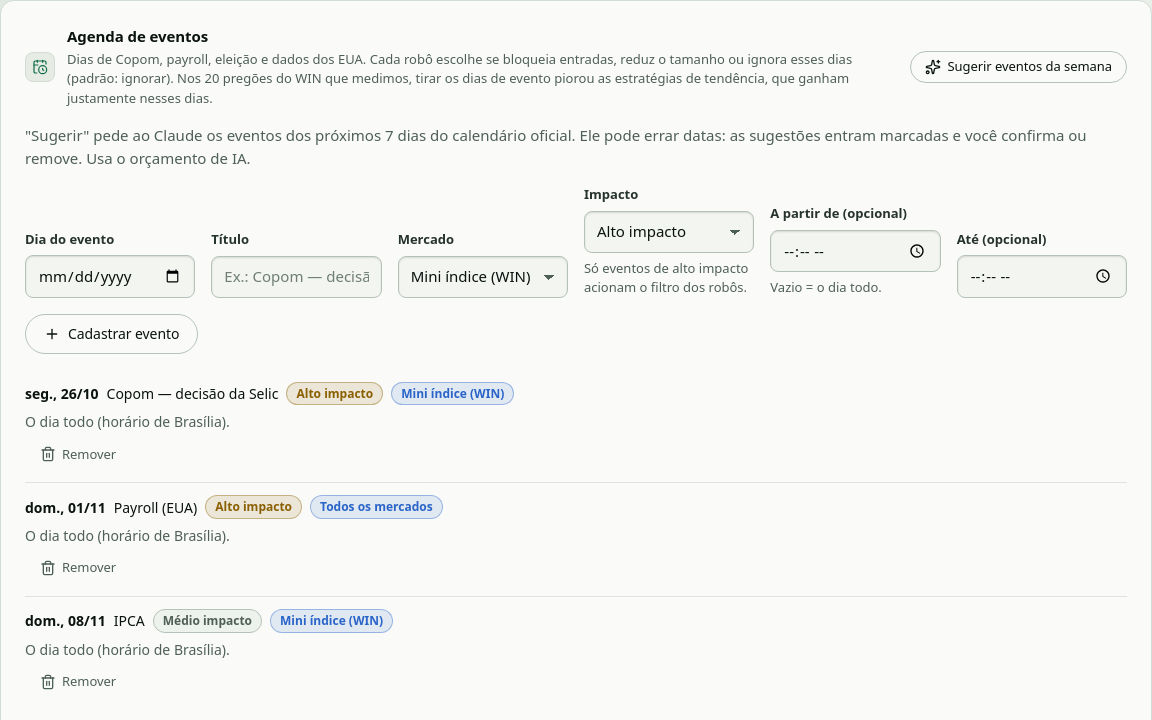
Test: painel Agenda de eventos › erro ao sugerir aparece como aviso e não quebra a tela
Click the button "Sugerir eventos da semana" at {"x": 1019, "y": 66}, box [910, 50, 1127, 82]
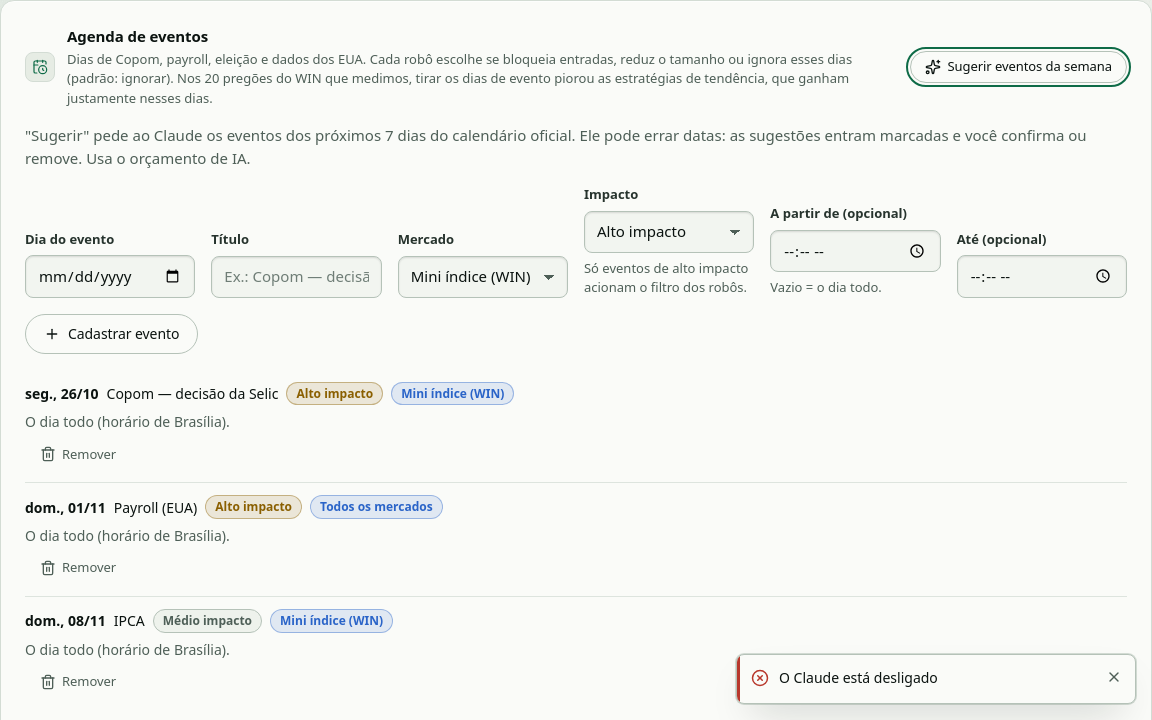
Now the text "O Claude está desligado" is shown, box [779, 668, 938, 687]
